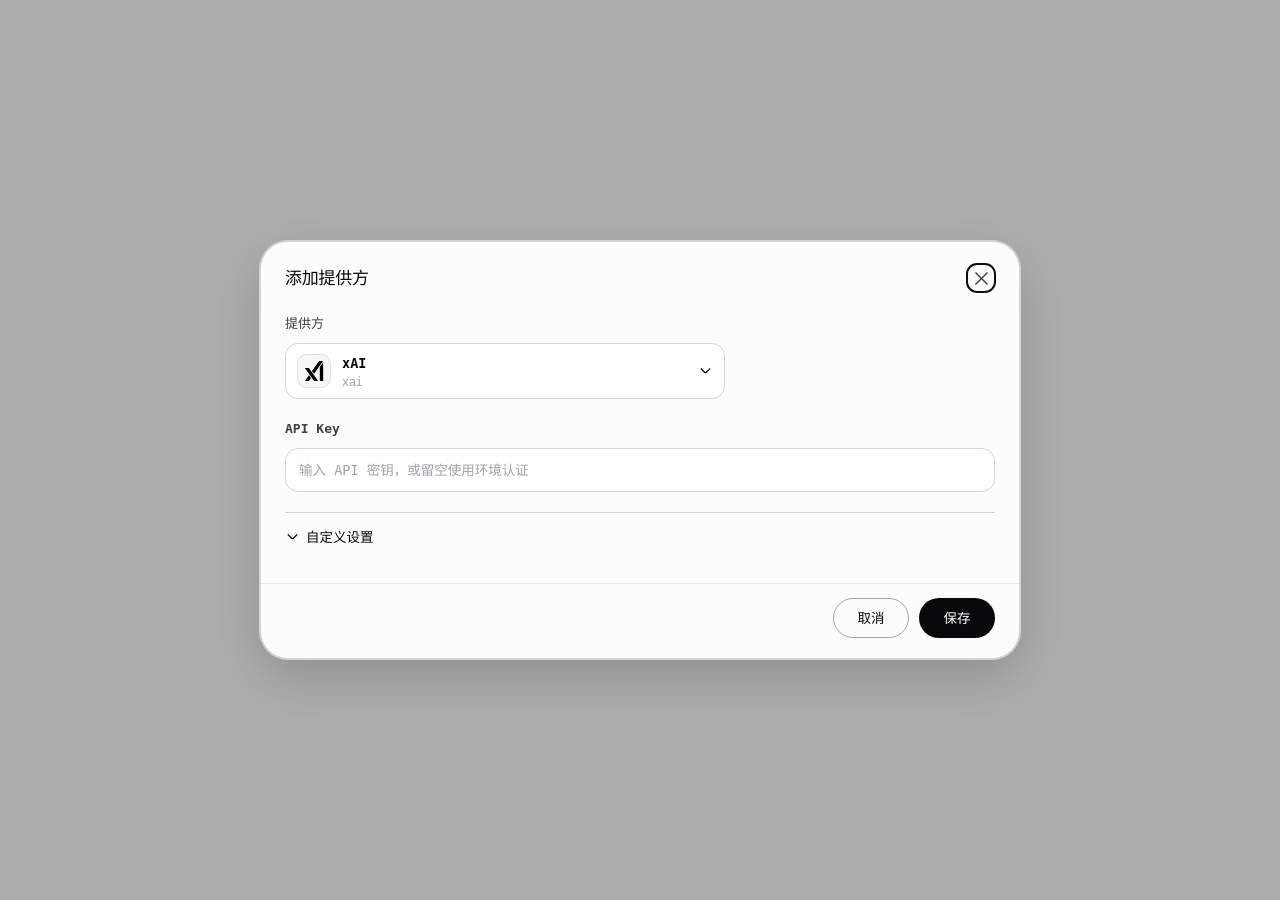
Test: ProviderSetupModal (builtin mode) › keeps the dialog open and shows the error when saving fails
The width and height of the screenshot is (1280, 900).
Click the button "保存" at (957, 618), box [919, 598, 995, 638]
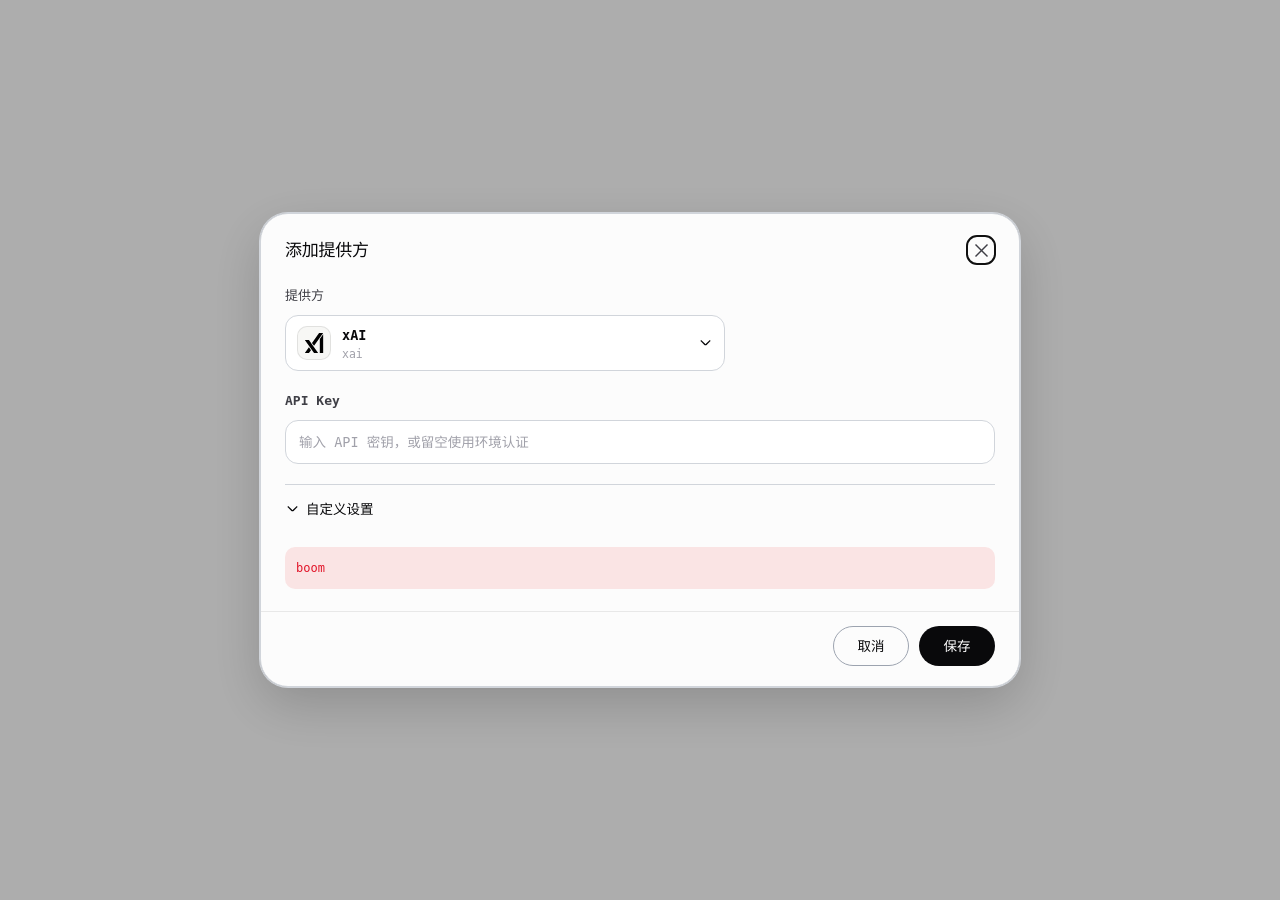
Now the text "boom" is shown, box [285, 547, 995, 589]
